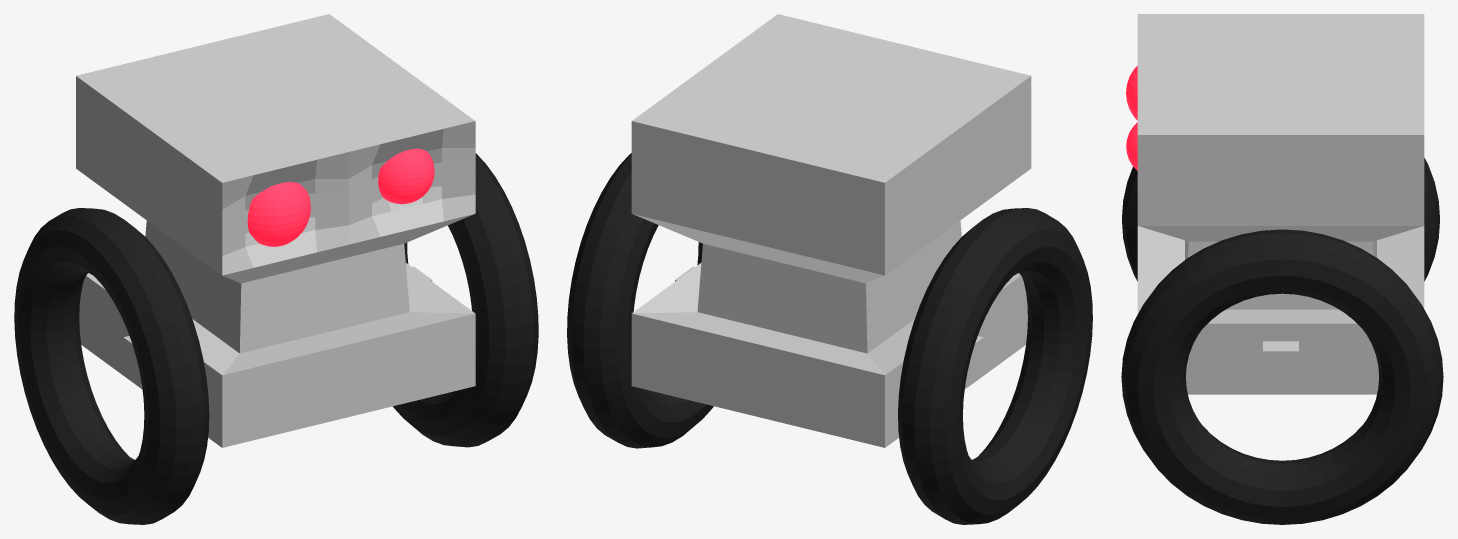
Rendered from two_wheel_robot.glb.
3 renders of one model, left to right at view 1: azimuth 30°, elevation 25°; view 2: azimuth 150°, elevation 25°; view 3: azimuth 270°, elevation 25°, orthographic. The views are drawn at different scales.
Visible parts, largest first — view 1: Cube; view 2: Cube; view 3: Cube.
Part boxes in pixels (x1,y1,x2,y2): Cube: (14,14,538,524); Cube: (567,14,1092,524); Cube: (1121,14,1443,524).
Size of the model in its own units: 3.07 by 2.85 by 2.25.
